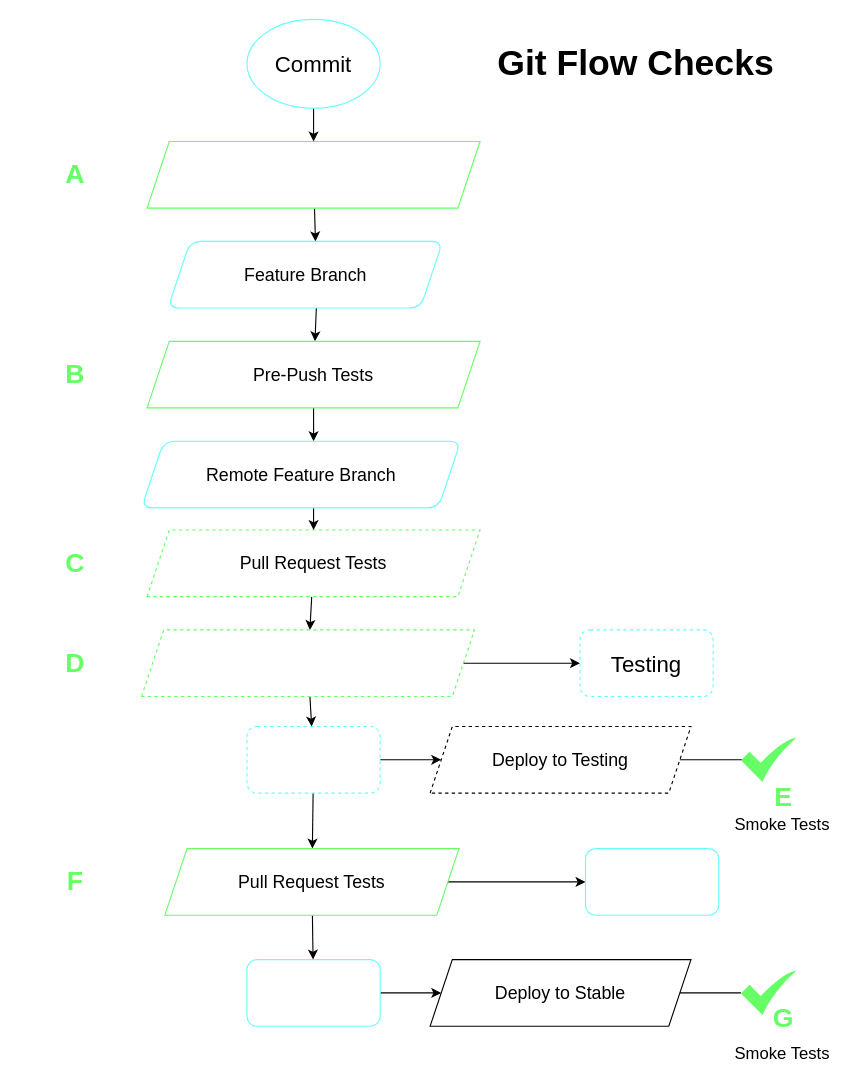
The diagram is 859 pixels wide and 1089 high, and some of its shapes have lost their labels. Here are the shapes that lost their labels. From the top down, the box of each, then its label:
(146, 140, 480, 208): Build/Webpack Check
(140, 629, 475, 697): DB Migrations Check with Rollback
(246, 725, 380, 793): develop
(584, 847, 719, 915): Stable
(246, 958, 380, 1026): master
